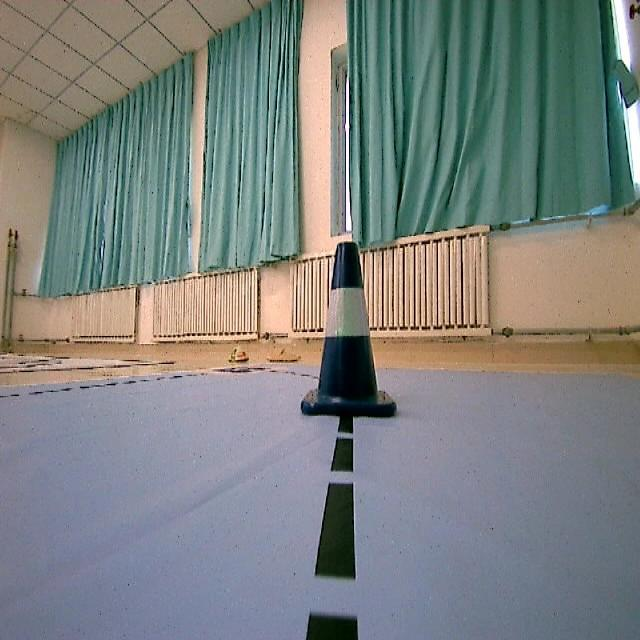obstacle: (294, 228, 412, 436)
